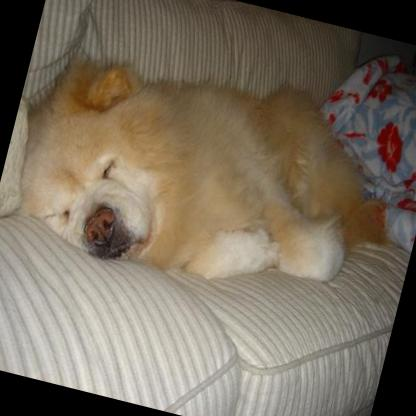chow: (2, 23, 414, 324)
